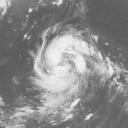cyclone: (29, 23, 105, 108)
